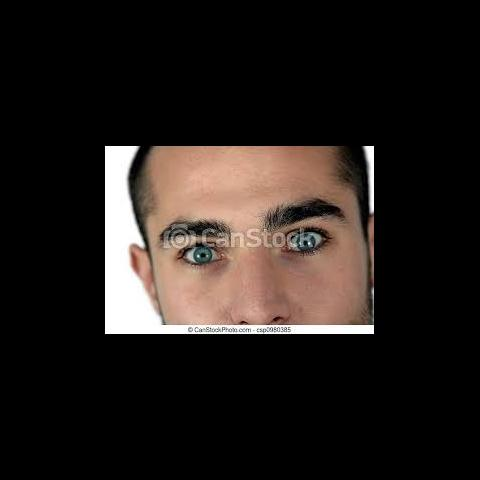opened: (164, 210, 349, 270)
